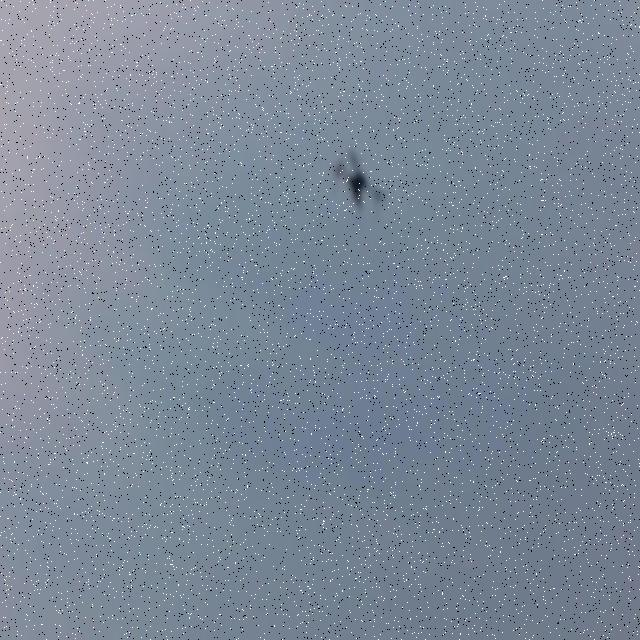UAV: (333, 145, 385, 211)
